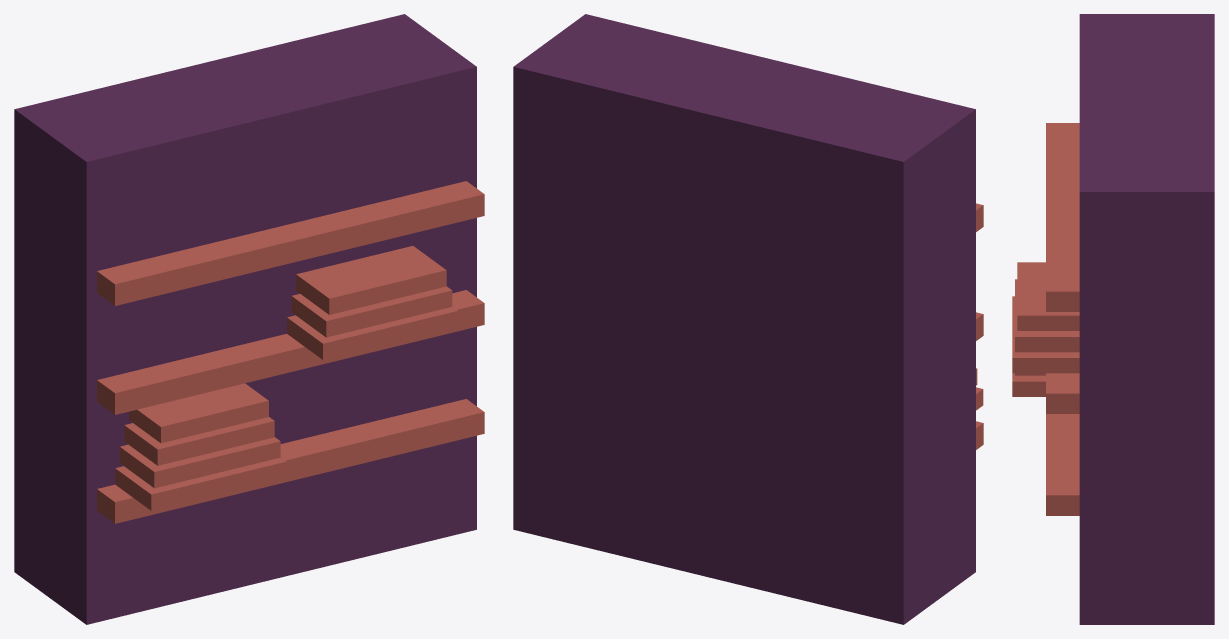
File: wall-shelf.obj
3 views of the same model, side by side, from view 1: azimuth 30°, elevation 25°; view 2: azimuth 150°, elevation 25°; view 3: azimuth 270°, elevation 25° (orthographic). The views are drawn at different scales.
Visible parts, largest first — view 1: storage-body, open-shelf-1-25, open-shelf-0-45, open-shelf-0-85, cozy-book-3, cozy-book-1, cozy-book-2, cozy-book-4; view 2: storage-body; view 3: storage-body, open-shelf-1-25, open-shelf-0-45, cozy-book-3, cozy-book-1, cozy-book-2, open-shelf-0-85.
Part boxes in pixels (box(x1,y1,x2,y2)): storage-body: box(14, 14, 476, 624); open-shelf-1-25: box(97, 181, 484, 305); open-shelf-0-45: box(97, 399, 484, 523); open-shelf-0-85: box(97, 290, 484, 414); cozy-book-3: box(124, 246, 446, 465); cozy-book-1: box(115, 306, 458, 510); cozy-book-2: box(119, 286, 452, 488); cozy-book-4: box(129, 383, 268, 443); storage-body: box(513, 14, 975, 624); storage-body: box(1079, 14, 1214, 624); open-shelf-1-25: box(1046, 123, 1079, 311); open-shelf-0-45: box(1046, 414, 1079, 515); cozy-book-3: box(1017, 262, 1079, 330); cozy-book-1: box(1012, 296, 1079, 396); cozy-book-2: box(1015, 279, 1079, 375); open-shelf-0-85: box(1046, 373, 1079, 413).
Size of the model in its own units: 1.5 by 1.7 by 0.72.
